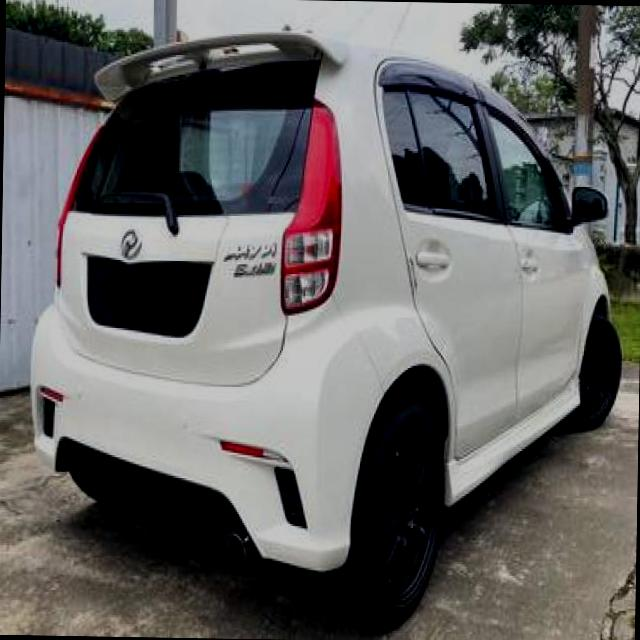PeroduaMyvi: (23, 19, 627, 632)
